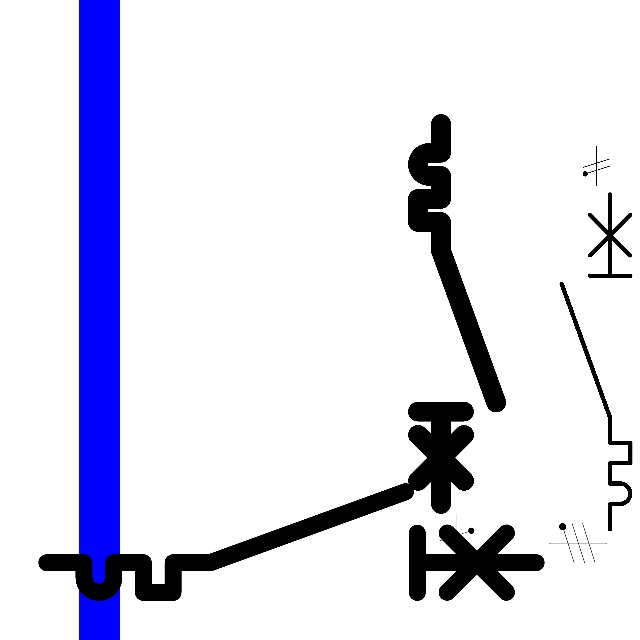interruptor_termomagnetico: (34, 479, 549, 605), (408, 114, 505, 513), (553, 185, 639, 537)
